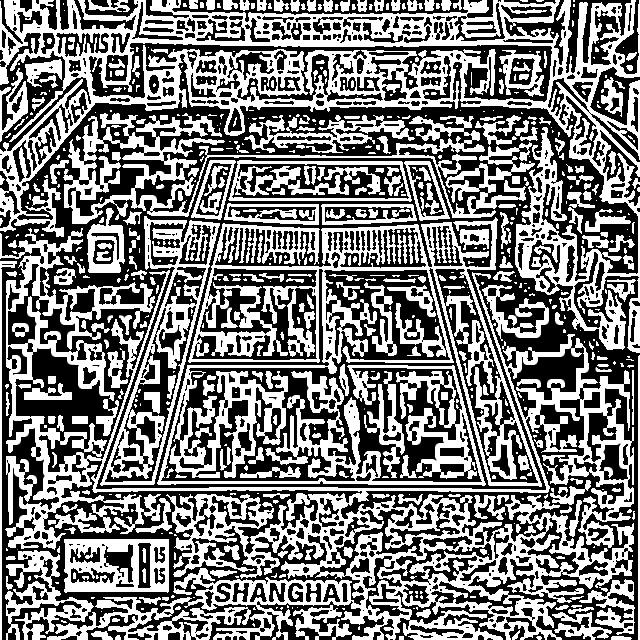left side: (403, 159, 545, 489), (97, 158, 237, 488)
player: (326, 331, 370, 484), (226, 72, 246, 134)
